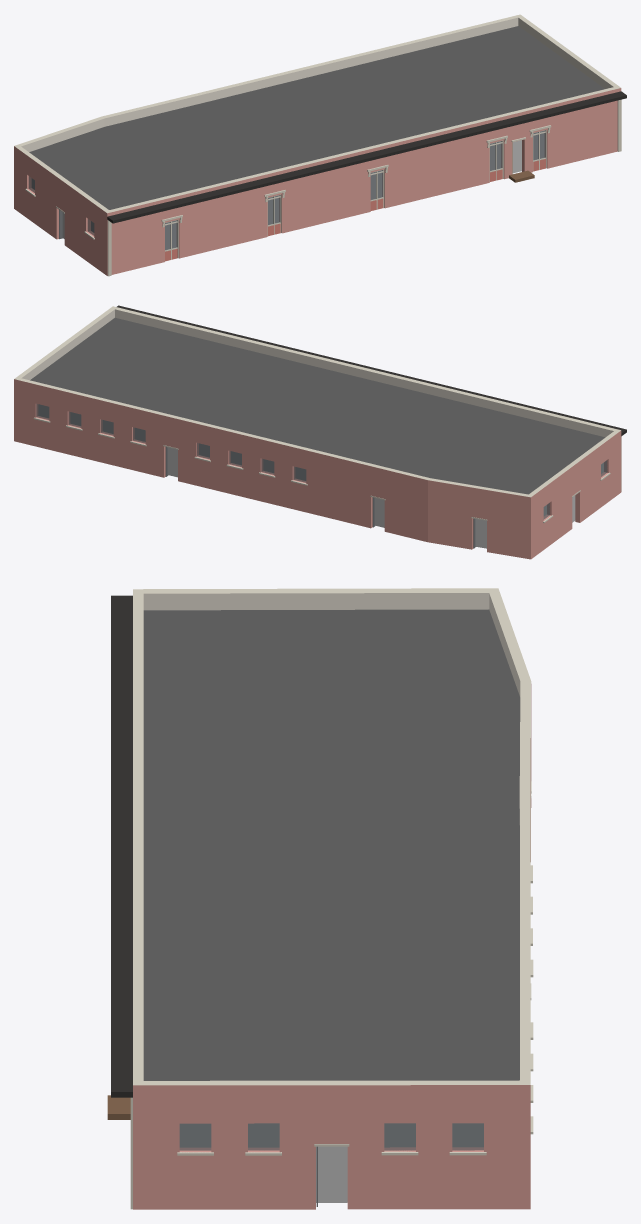
Rendered from exterior.glb.
3 renders of one model, top to bottom at view 1: azimuth 30°, elevation 25°; view 2: azimuth 150°, elevation 25°; view 3: azimuth 270°, elevation 25°, orthographic. The views are drawn at different scales.
Parts seen in each view (by area): view 1: roof, shell, hand-ornament, glazing, storefront, shadow-proxy; view 2: shell, roof, shadow-proxy, glazing, hand-ornament, trim, storefront; view 3: roof, shell, hand-ornament, shadow-proxy, glazing, trim.
Part boxes in pixels (x1,y1,x2,y2): roof: (29,26,604,209); shell: (14,14,621,275); hand-ornament: (107,91,626,276); glazing: (29,130,545,250); storefront: (56,130,546,261); shadow-proxy: (32,131,544,249); shell: (14,306,621,559); roof: (30,317,605,494); shadow-proxy: (38,404,603,548); glazing: (36,404,607,519); hand-ornament: (117,305,626,491); trim: (33,417,610,522); storefront: (163,445,580,548); roof: (143,609,520,1080); shell: (133,588,531,1209); hand-ornament: (107,595,132,1209); shadow-proxy: (180,1123,483,1202); glazing: (179,1123,483,1150); trim: (177,865,533,1155).
Bounding box in the file's own units: 37.3 × 4.33 × 13.44.
